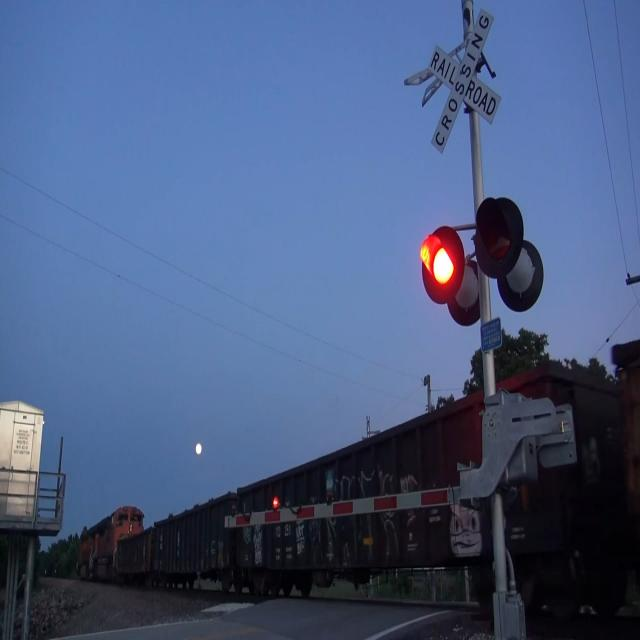gondola: (233, 355, 618, 615), (151, 485, 236, 605)
